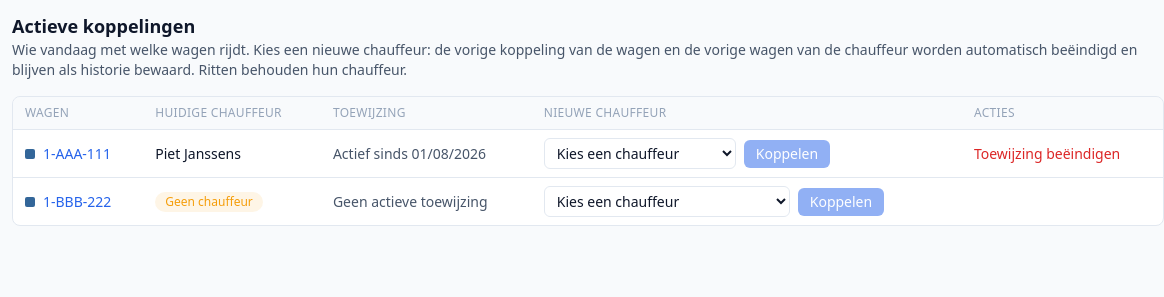
Test: VehicleDriverLinksSection › 1-5. links with only the two ids, reports what was ended, and refreshes
This screenshot has width=1164, height=297.
expect the link "1-BBB-222" is shown: met, box [43, 192, 111, 212]
Select "Piet Janssens (nu op 1-AAA-111)" in the dropdown named "Nieuwe chauffeur voor 1-BBB-222". click: (667, 202)
box: [544, 186, 790, 217]
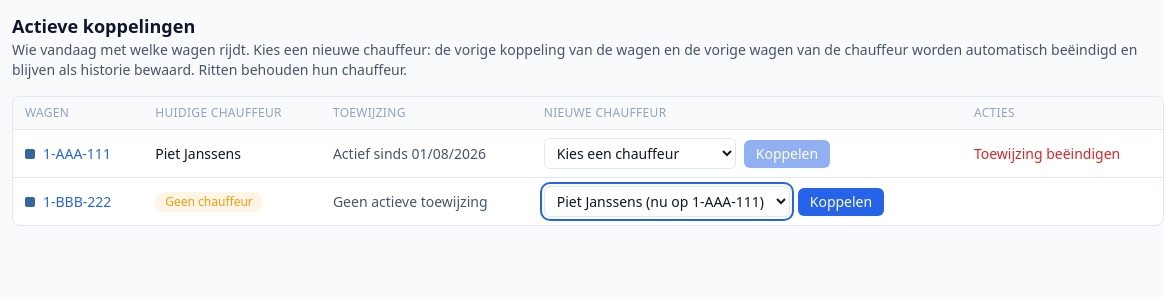
Click the button "Koppelen" in the row of "1-BBB-222". click: (841, 202)
box: [798, 188, 884, 216]
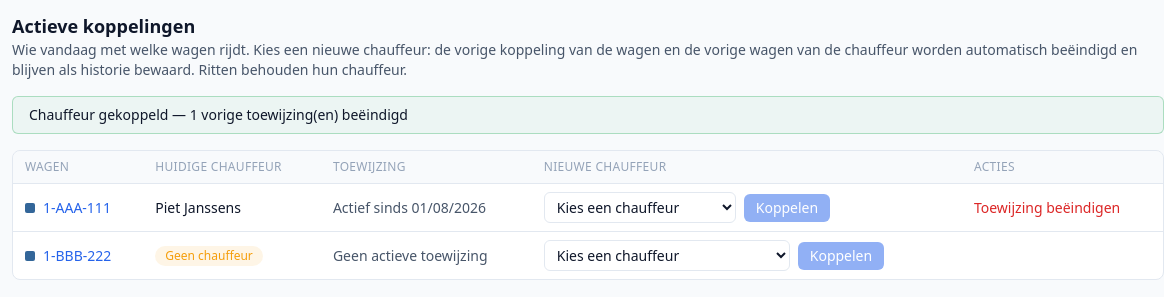
expect the message reads "Chauffeur gekoppeld — 1 vorige toewijzing(en) beëindigd": met, box [12, 96, 1163, 134]
